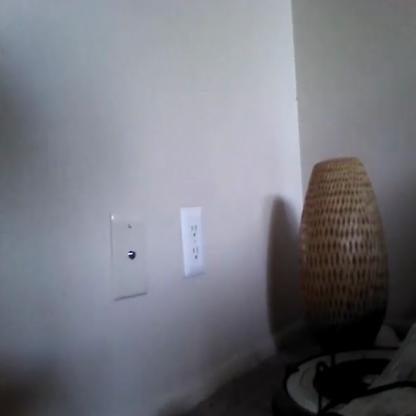OUTLET: (178, 208, 204, 273)
